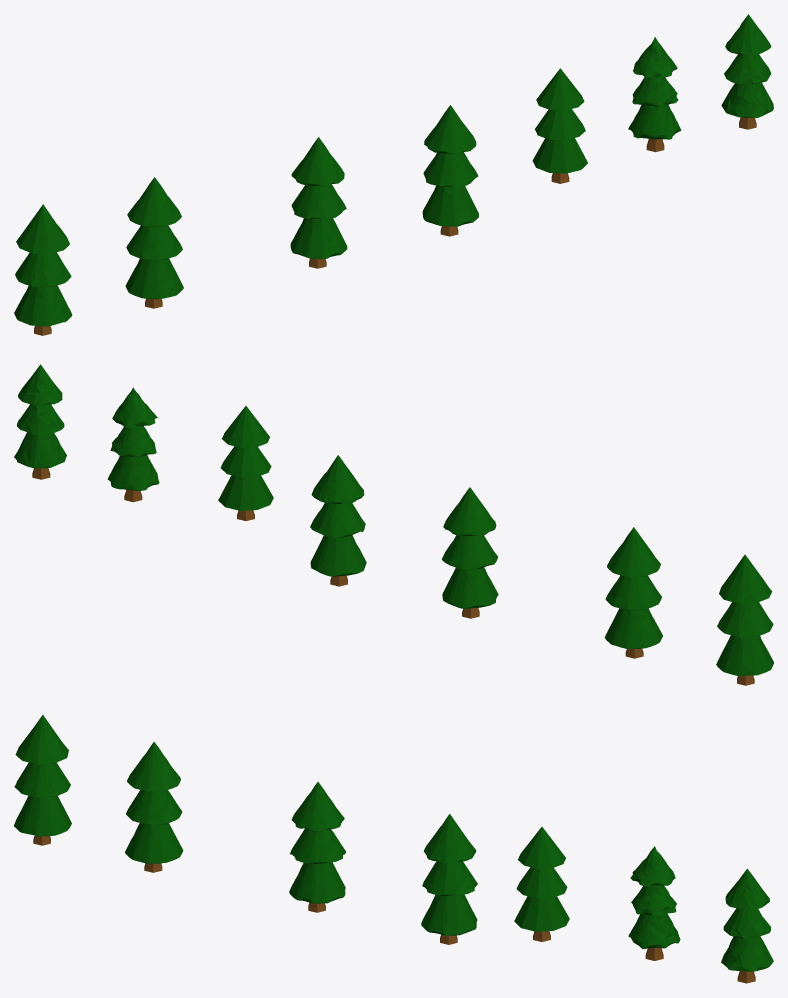
File: Small_Trees.fbx
3 views of the same model, one above another, from view 1: azimuth 30°, elevation 25°; view 2: azimuth 150°, elevation 25°; view 3: azimuth 330°, elevation 25° (orthographic).
Visible parts, largest first — view 1: TREEVAR2_LOWPOLY1, TreeVar2_SUPERLOWPOLY1, Treevar3_Lowpoly1, TreeVar3_SuperLowpoly1, TreeVar1, Treevar6, TreeVar4_Lowpoly1; view 2: TREEVAR2_LOWPOLY1, TreeVar2_SUPERLOWPOLY1, Treevar3_Lowpoly1, TreeVar3_SuperLowpoly1, TreeVar1, Treevar6, TreeVar4_Lowpoly1; view 3: TREEVAR2_LOWPOLY1, TreeVar2_SUPERLOWPOLY1, Treevar3_Lowpoly1, TreeVar3_SuperLowpoly1, TreeVar1, Treevar6, TreeVar4_Lowpoly1.
Part boxes in pixels (bbox=[...]): TREEVAR2_LOWPOLY1: bbox=[125, 177, 183, 308]; TreeVar2_SUPERLOWPOLY1: bbox=[14, 204, 72, 335]; Treevar3_Lowpoly1: bbox=[290, 137, 347, 268]; TreeVar3_SuperLowpoly1: bbox=[422, 105, 478, 236]; TreeVar1: bbox=[532, 68, 587, 183]; Treevar6: bbox=[721, 14, 773, 129]; TreeVar4_Lowpoly1: bbox=[628, 37, 681, 152]; TREEVAR2_LOWPOLY1: bbox=[604, 527, 662, 658]; TreeVar2_SUPERLOWPOLY1: bbox=[716, 554, 773, 685]; Treevar3_Lowpoly1: bbox=[442, 487, 498, 618]; TreeVar3_SuperLowpoly1: bbox=[310, 455, 366, 586]; TreeVar1: bbox=[218, 406, 273, 520]; Treevar6: bbox=[14, 364, 66, 479]; TreeVar4_Lowpoly1: bbox=[107, 387, 159, 502]; TREEVAR2_LOWPOLY1: bbox=[125, 742, 183, 872]; TreeVar2_SUPERLOWPOLY1: bbox=[14, 715, 71, 845]; Treevar3_Lowpoly1: bbox=[289, 782, 345, 912]; TreeVar3_SuperLowpoly1: bbox=[421, 814, 477, 944]; TreeVar1: bbox=[514, 827, 569, 941]; Treevar6: bbox=[721, 868, 773, 983]; TreeVar4_Lowpoly1: bbox=[628, 846, 680, 960].
Size of the model in its own units: 29.04 by 5.37 by 2.43.
Materials: 1 (1 with a texture image).
